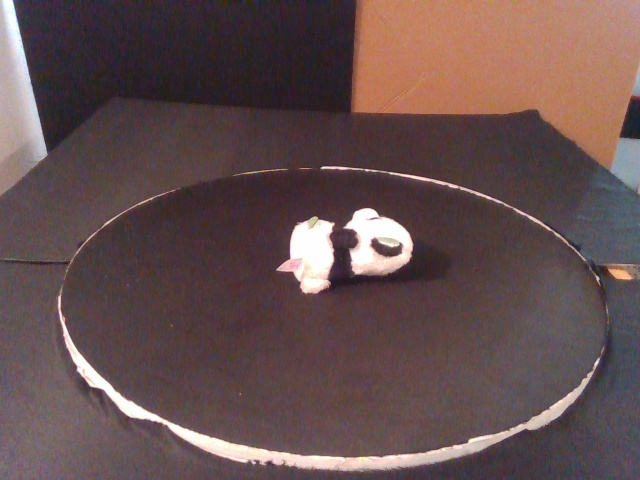teddy_bear: (275, 208, 414, 295)
